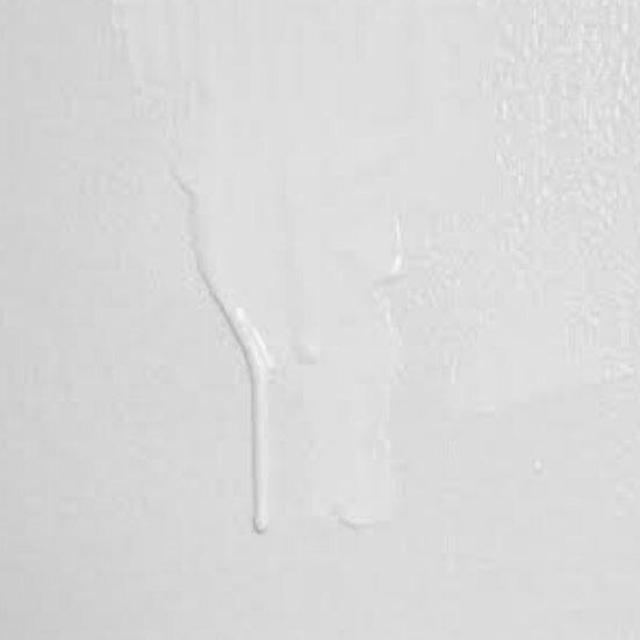paint drips: (156, 130, 290, 539), (322, 206, 429, 545)
